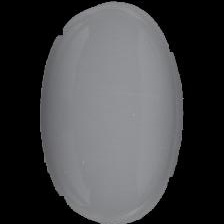68382-266: (0, 0, 224, 224)
